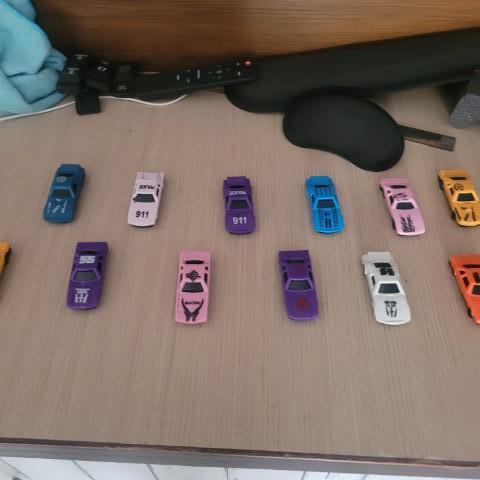car: (359, 251, 417, 329), (60, 239, 111, 312), (171, 249, 212, 327), (378, 176, 426, 241), (277, 247, 319, 321), (42, 159, 84, 225), (436, 167, 480, 227), (305, 174, 346, 234), (127, 168, 165, 230), (221, 173, 257, 235)
